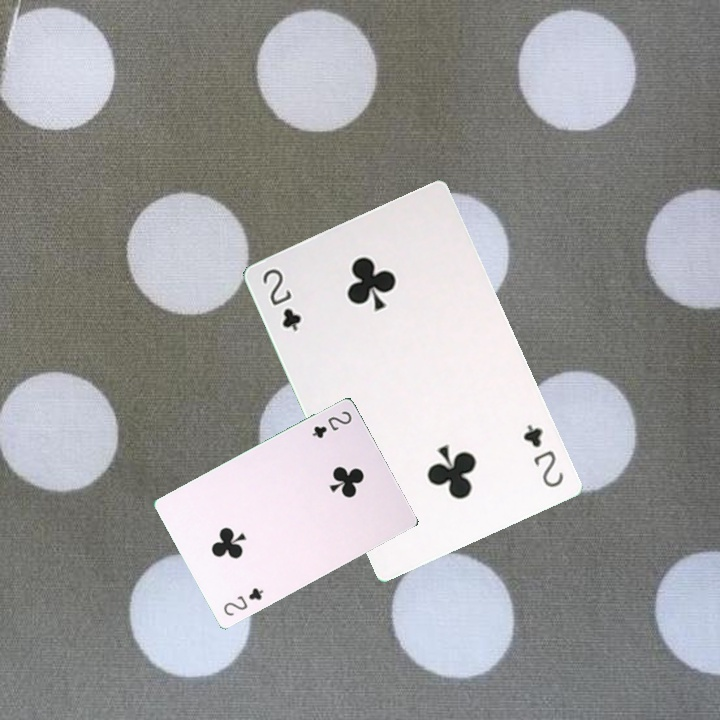2c: (519, 420, 566, 490), (258, 264, 304, 334), (219, 584, 266, 619), (308, 407, 354, 441)
